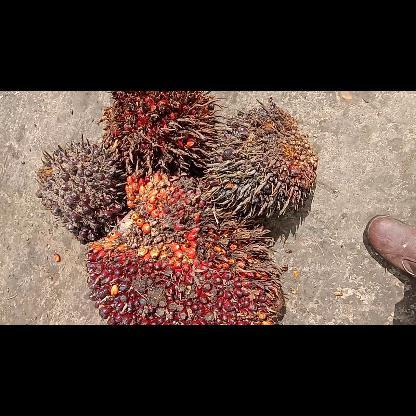Kurang masak: (35, 139, 125, 243)
TBS abnormal: (206, 101, 318, 215)
TBS masak: (85, 174, 285, 324)
Terlalu masak: (100, 90, 216, 172)
